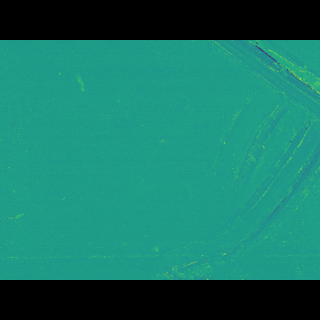Loch: (137, 68, 320, 251)
